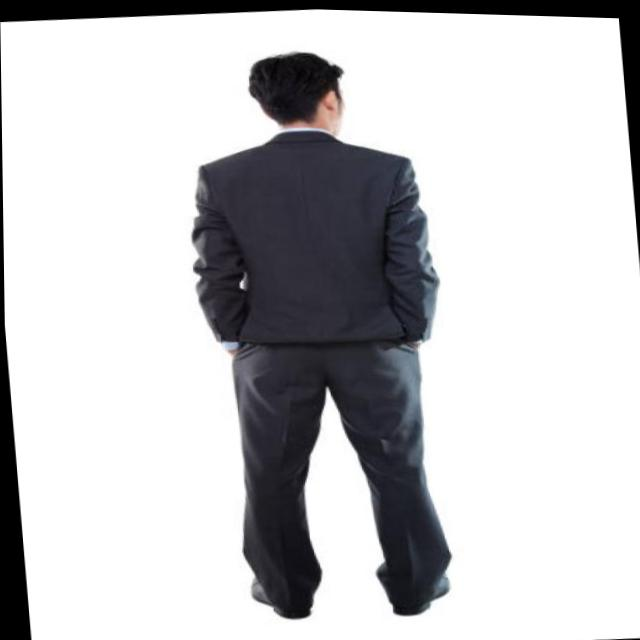no helmet: (233, 38, 366, 141)
